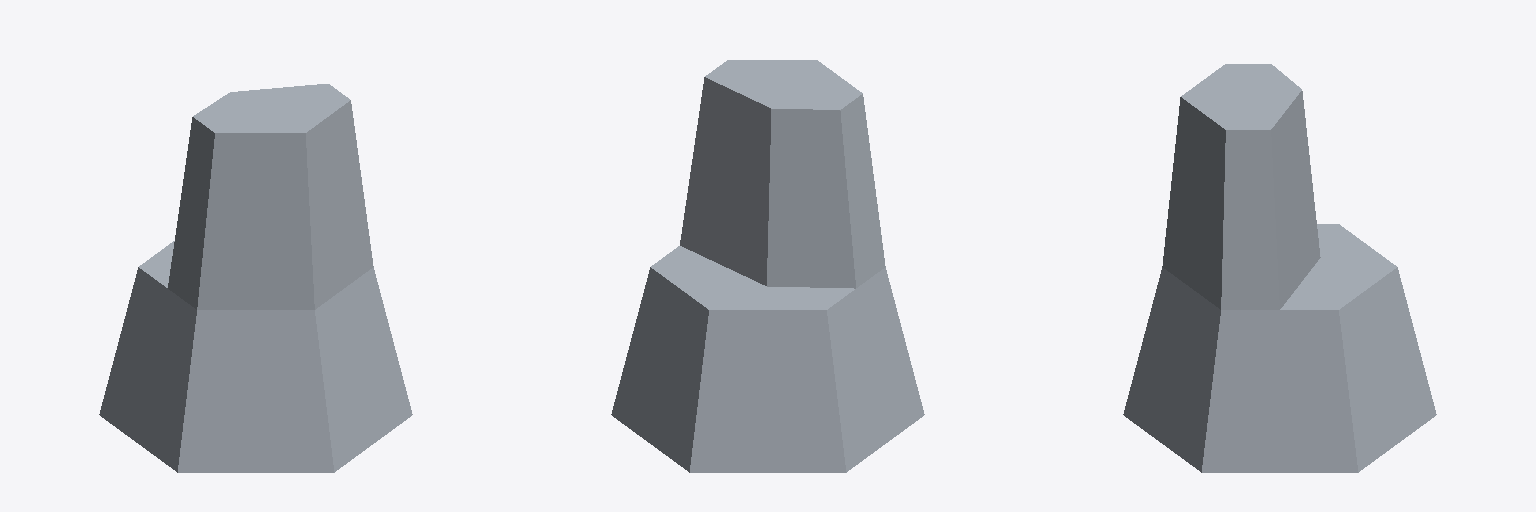
The model's file is Tall_Rock_1_01.obj.
3 views of the same model, side by side, from view 1: azimuth 30°, elevation 25°; view 2: azimuth 150°, elevation 25°; view 3: azimuth 270°, elevation 25° (orthographic).
Visible parts, largest first — view 1: Mesh1_Tall_Rock_1_Model; view 2: Mesh1_Tall_Rock_1_Model; view 3: Mesh1_Tall_Rock_1_Model.
Part boxes in pixels (x1,y1,x2,y2): Mesh1_Tall_Rock_1_Model: (99, 84, 412, 472); Mesh1_Tall_Rock_1_Model: (611, 60, 924, 472); Mesh1_Tall_Rock_1_Model: (1123, 64, 1436, 472).
Bounding box in the file's own units: 1.23 × 1.59 × 1.42.